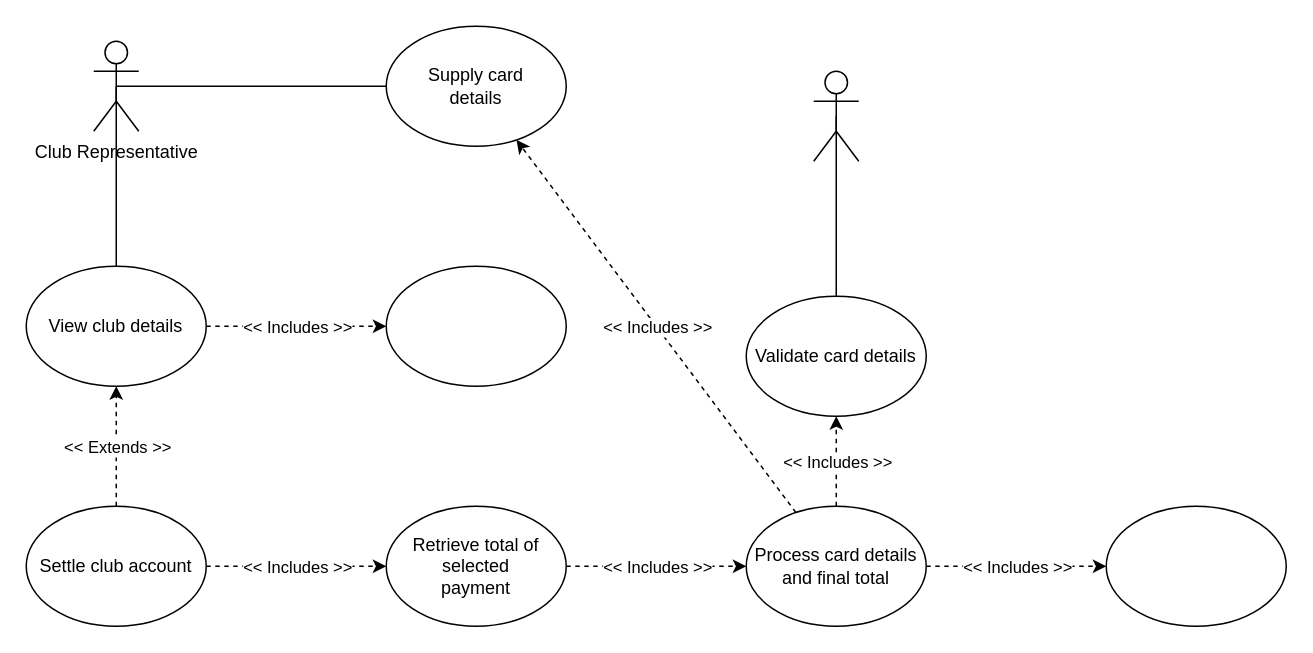
The diagram is 1313 pixels wide and 653 high, and some of its shapes have lost their labels. The centre of each missing label's shape, as x and y in pixels:
"Payment Processor" goes at pixel 835 115.
"Record transaction outcome" goes at pixel 1195 565.
"Retrieve list of outstanding payments" goes at pixel 475 325.
